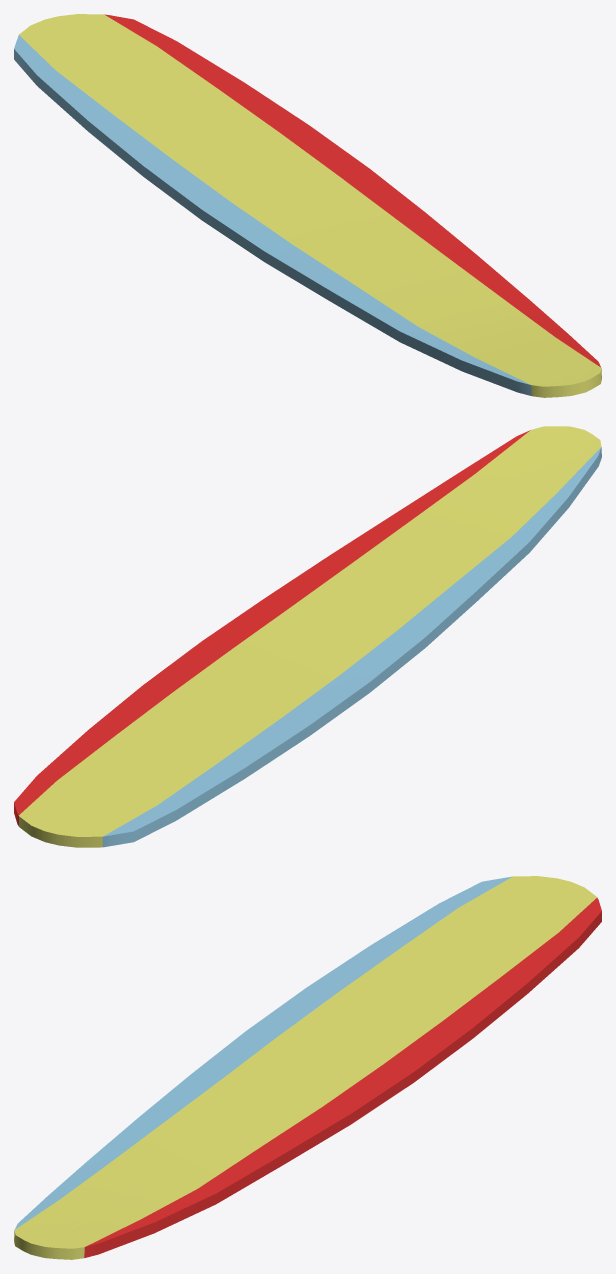
Rendered from board_B.fbx.
3 views of the same model, one above another, from view 1: azimuth 30°, elevation 25°; view 2: azimuth 150°, elevation 25°; view 3: azimuth 330°, elevation 25° (orthographic).
Visible parts, largest first — view 1: board_B; view 2: board_B; view 3: board_B.
Boxes of the visible parts, bbox=[...] form: board_B: bbox=[14, 14, 601, 397]; board_B: bbox=[14, 426, 601, 847]; board_B: bbox=[14, 876, 601, 1259].
Size of the model in its own units: 37.42 by 6.51 by 203.
